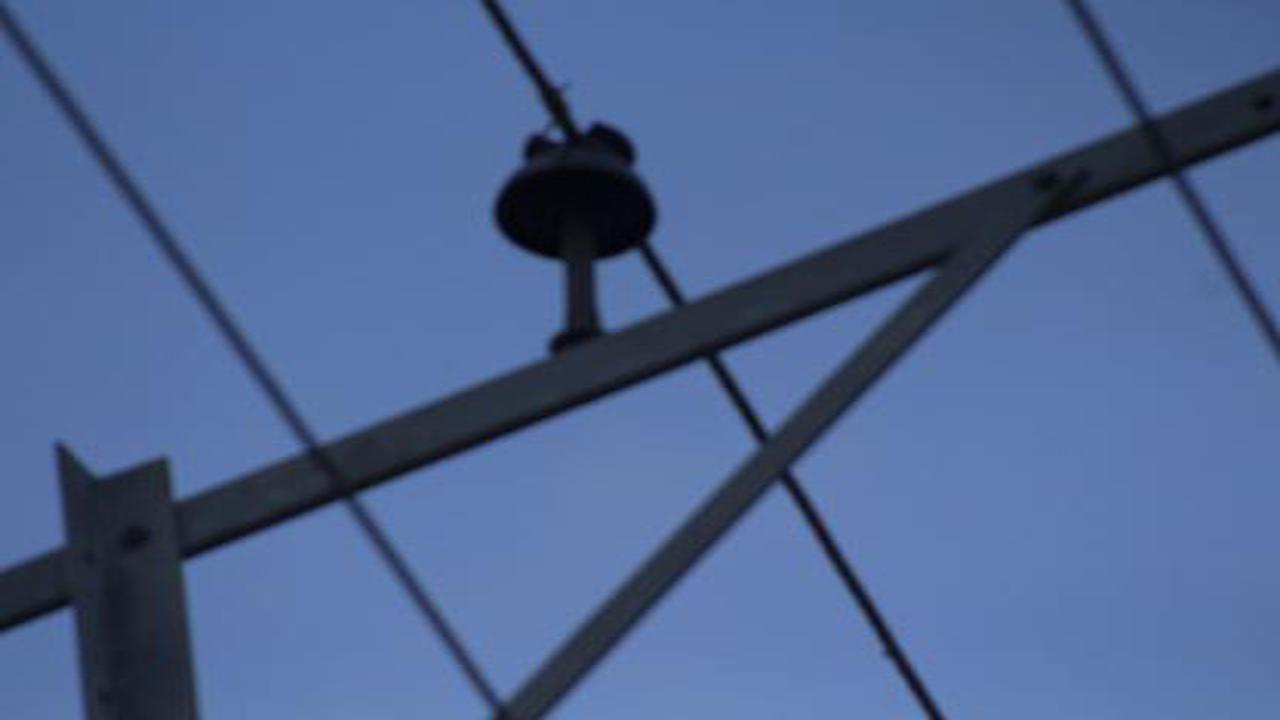insulator_pin: (487, 116, 664, 270)
